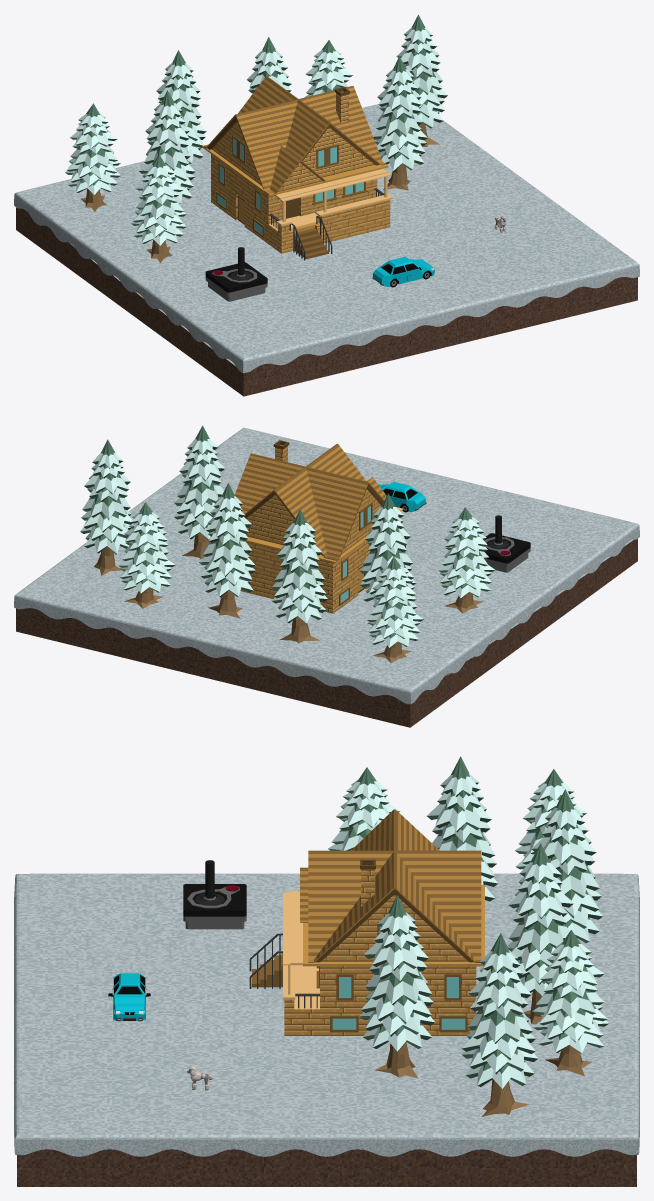
3 renders of one model, top to bottom at view 1: azimuth 30°, elevation 25°; view 2: azimuth 150°, elevation 25°; view 3: azimuth 270°, elevation 25°, orthographic. The views are drawn at different scales.
Parts seen in each view (by area): view 1: Cube.003, Cube.508, OBJRANDOM_JOYSTICK, VEHICLES_CAR; view 2: Cube.003, Cube.508, OBJRANDOM_JOYSTICK, VEHICLES_CAR; view 3: Cube.003, Cube.508, OBJRANDOM_JOYSTICK, VEHICLES_CAR.
Boxes of the visible parts, left/top/right/bottom form: Cube.003: left=14, top=14, right=639, bottom=396; Cube.508: left=202, top=76, right=393, bottom=260; OBJRANDOM_JOYSTICK: left=205, top=247, right=267, bottom=301; VEHICLES_CAR: left=372, top=256, right=434, bottom=287; Cube.003: left=14, top=425, right=639, bottom=727; Cube.508: left=235, top=440, right=405, bottom=613; OBJRANDOM_JOYSTICK: left=484, top=515, right=530, bottom=572; VEHICLES_CAR: left=378, top=481, right=426, bottom=512; Cube.003: left=14, top=756, right=639, bottom=1186; Cube.508: left=249, top=809, right=484, bottom=1035; OBJRANDOM_JOYSTICK: left=183, top=860, right=246, bottom=929; VEHICLES_CAR: left=108, top=973, right=150, bottom=1021.
Bounding box in the file's own units: 4040 × 1844 × 4040.
36 materials, 4 textured.
